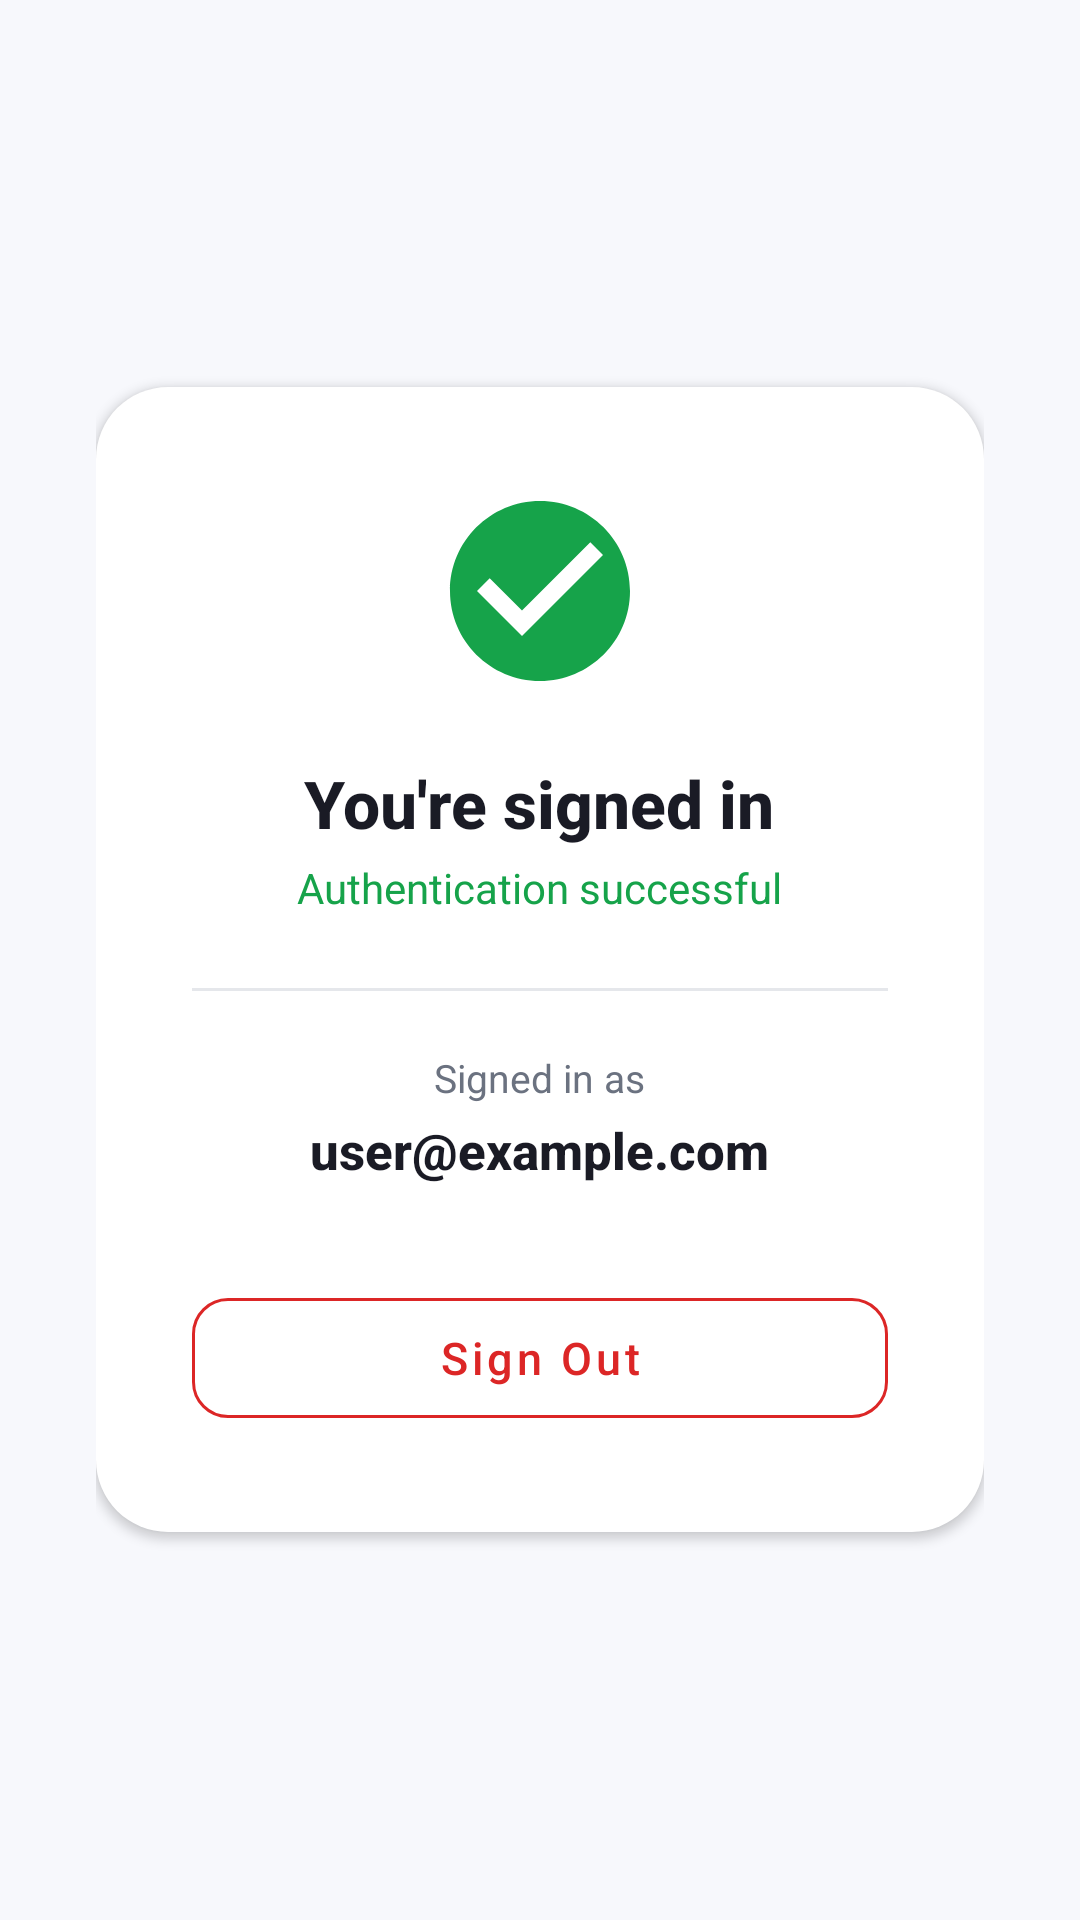

Screen size 1080 × 1920. Icon name, then its center in pixels as (x,y):
Authentication successful: (539,591)
